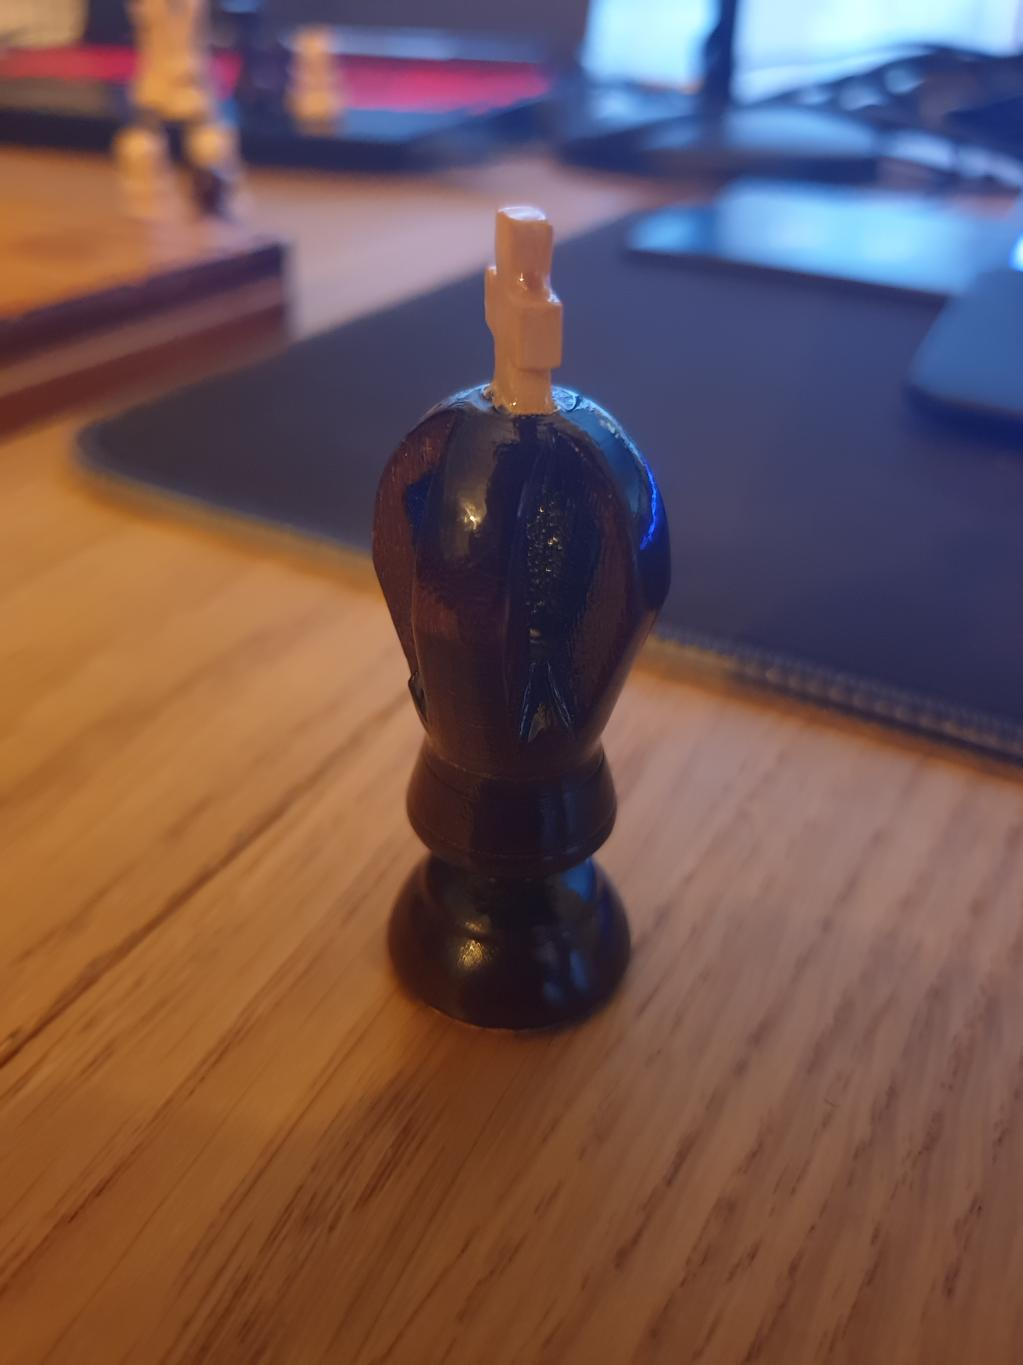bking: (366, 204, 671, 1033)
